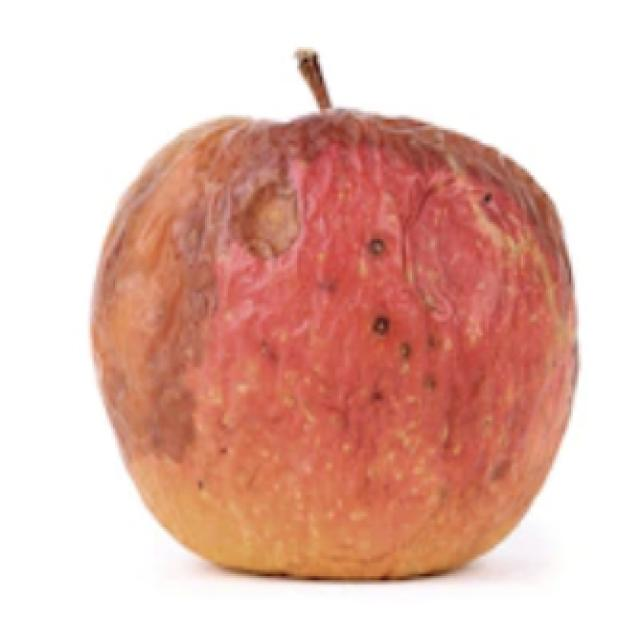rotten_apple: (90, 53, 586, 586)
